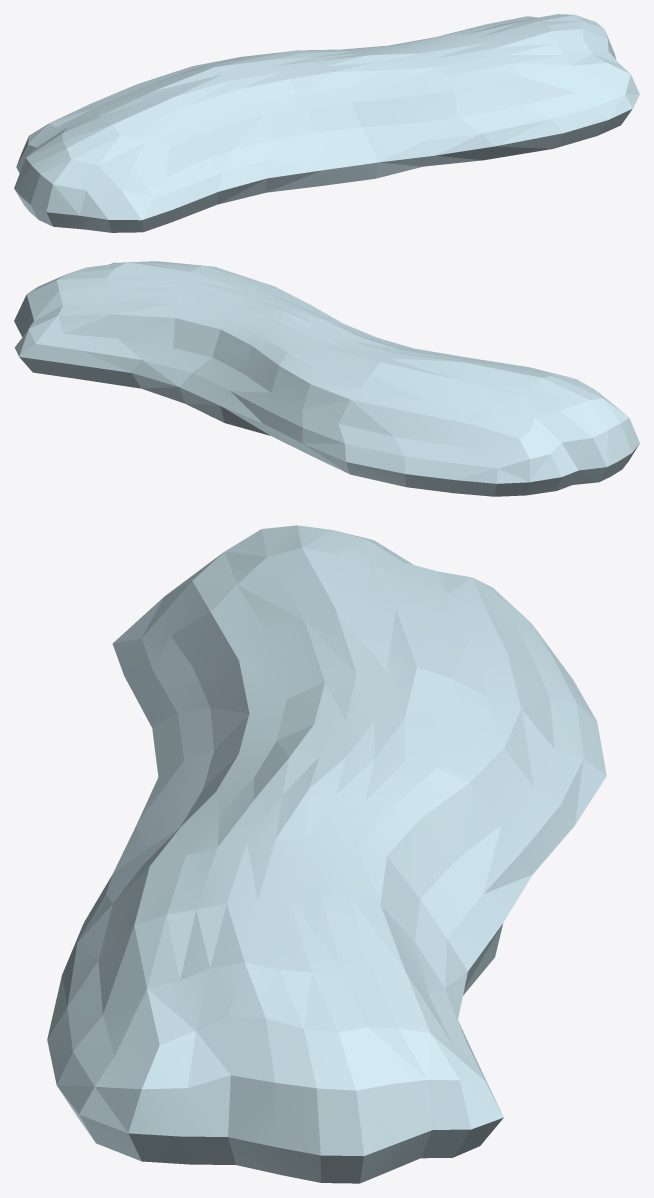
File: Monticulo01.glb
3 renders of one model, top to bottom at view 1: azimuth 30°, elevation 25°; view 2: azimuth 150°, elevation 25°; view 3: azimuth 270°, elevation 25°, orthographic. The views are drawn at different scales.
Parts seen in each view (by area): view 1: SM_Env_Dirt_Mound_01_Snow; view 2: SM_Env_Dirt_Mound_01_Snow; view 3: SM_Env_Dirt_Mound_01_Snow.
Boxes of the visible parts, x1,y1,x2,y2 form: SM_Env_Dirt_Mound_01_Snow: (14,14,639,232); SM_Env_Dirt_Mound_01_Snow: (14,261,639,496); SM_Env_Dirt_Mound_01_Snow: (47,525,606,1183).
Bounding box in the file's own units: 19.86 × 2.55 × 8.11.
1 material, 1 textured.
